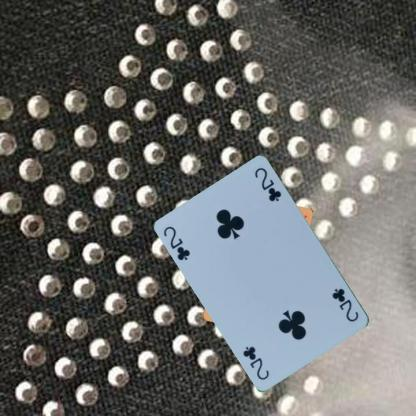2c: (330, 286, 361, 324), (161, 224, 192, 262)
